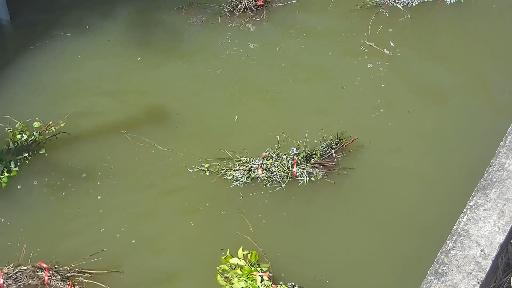twig: (189, 128, 368, 205), (0, 118, 70, 183), (202, 238, 277, 288), (0, 262, 130, 288), (197, 0, 283, 29), (359, 0, 506, 11)
